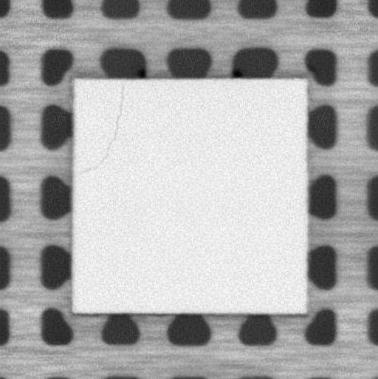DIE_CRACK: (78, 86, 126, 177)
